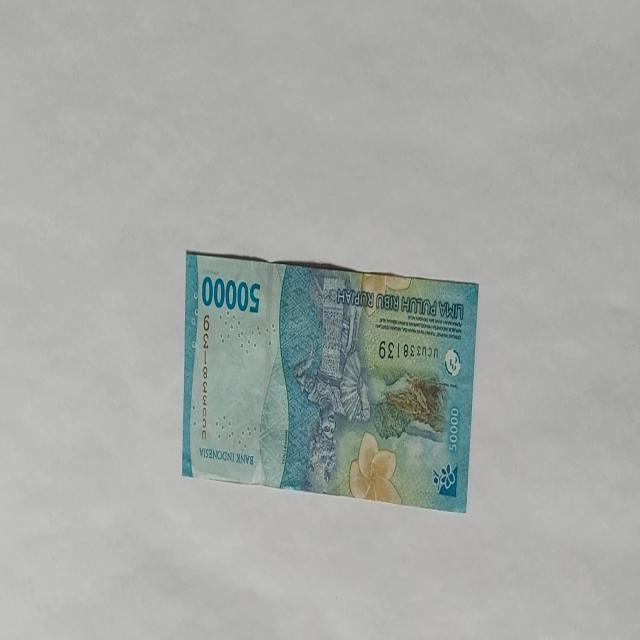lima puluh ribu rupiah: (181, 249, 479, 513), (200, 273, 262, 315)
